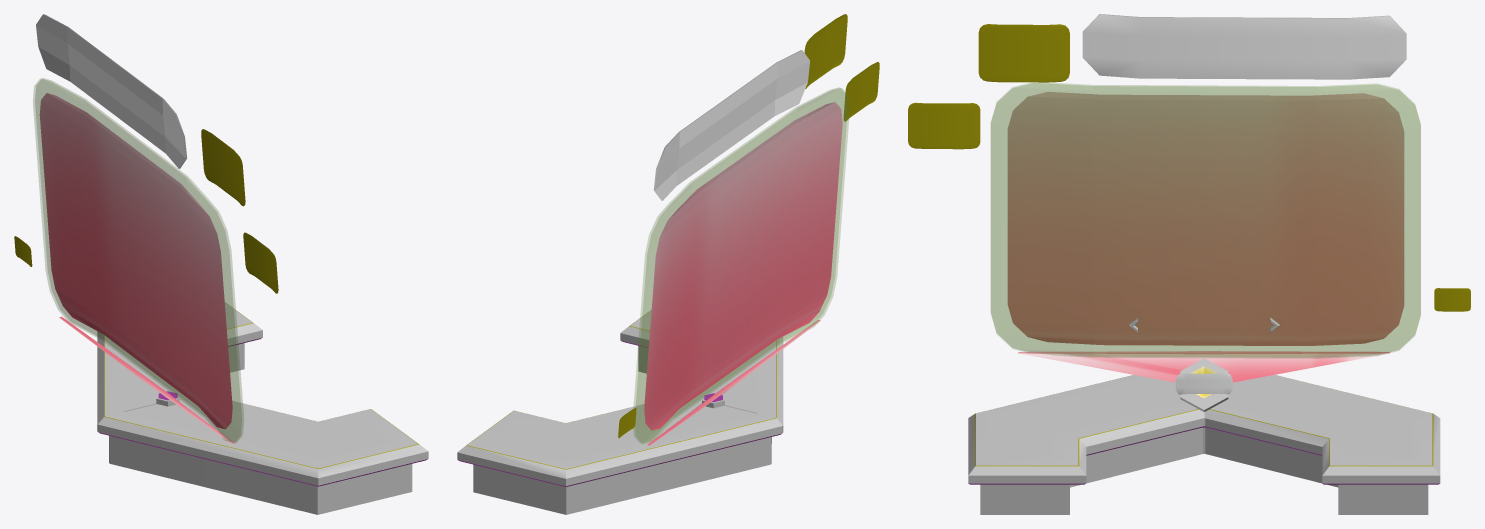
File: Museum_SignBook_01_Art.fbx
3 renders of one model, left to right at view 1: azimuth 30°, elevation 25°; view 2: azimuth 150°, elevation 25°; view 3: azimuth 270°, elevation 25°, orthographic. The views are drawn at different scales.
Visible parts, largest first — view 1: Museum_SignBook_01; view 2: Museum_SignBook_01; view 3: Museum_SignBook_01.
Boxes of the visible parts, <box> form: Museum_SignBook_01: <box>14,14,428,514</box>; Museum_SignBook_01: <box>457,14,879,514</box>; Museum_SignBook_01: <box>908,14,1470,514</box>.
Size of what is drawn, in the model's own units: 397 by 656 by 822.
